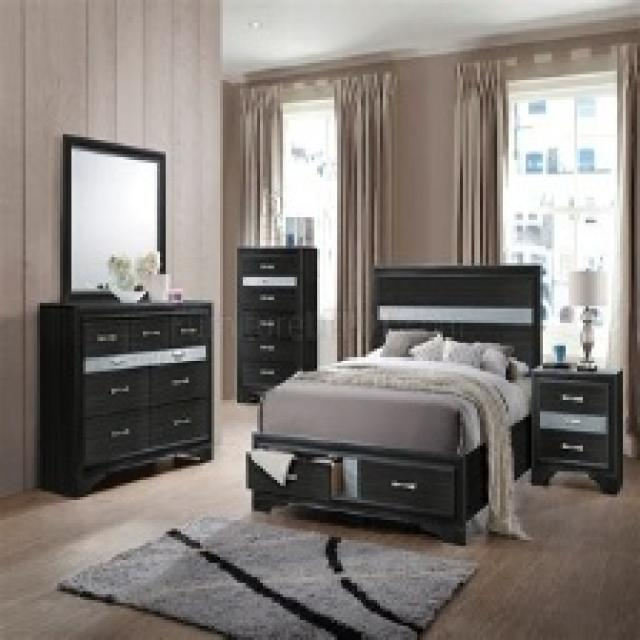Bed: (243, 263, 543, 543)
